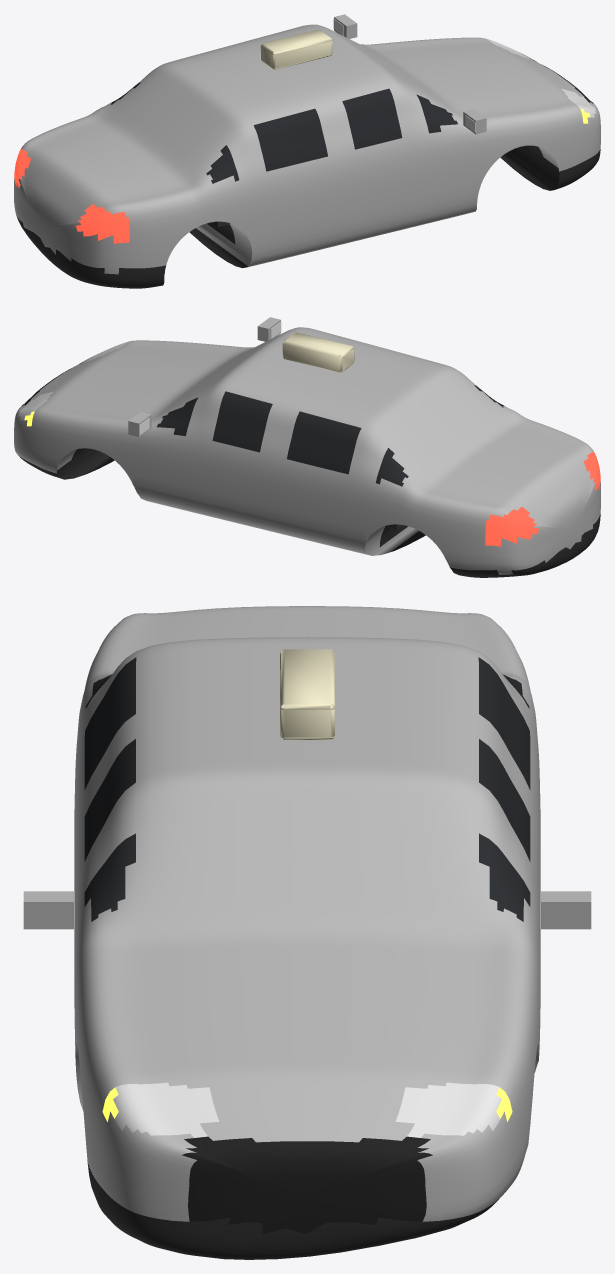
The model's file is SM_VB_Car_Taxi.fbx.
3 views of the same model, one above another, from view 1: azimuth 30°, elevation 25°; view 2: azimuth 150°, elevation 25°; view 3: azimuth 270°, elevation 25° (orthographic). The views are drawn at different scales.
Visible parts, largest first — view 1: SM_VB_Car_Taxi; view 2: SM_VB_Car_Taxi; view 3: SM_VB_Car_Taxi.
Part boxes in pixels (<box>): SM_VB_Car_Taxi: <box>14,14,600,288</box>; SM_VB_Car_Taxi: <box>14,317,600,577</box>; SM_VB_Car_Taxi: <box>23,606,591,1259</box>.
Bounding box in the file's own units: 4.84 × 1.48 × 2.26.
